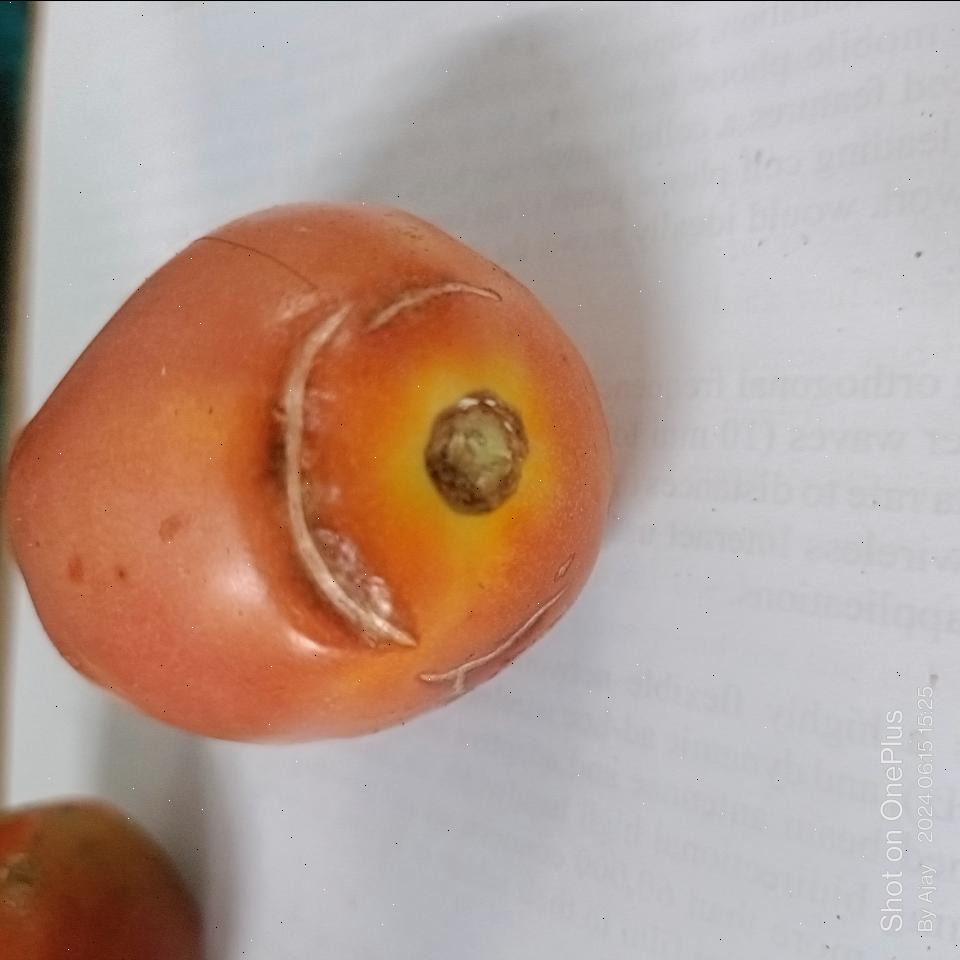Cracking: (269, 285, 421, 652)
